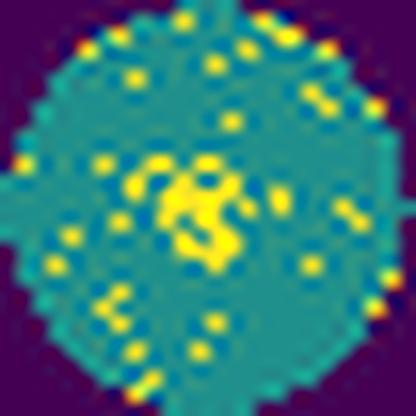Center: (122, 148, 261, 282)
